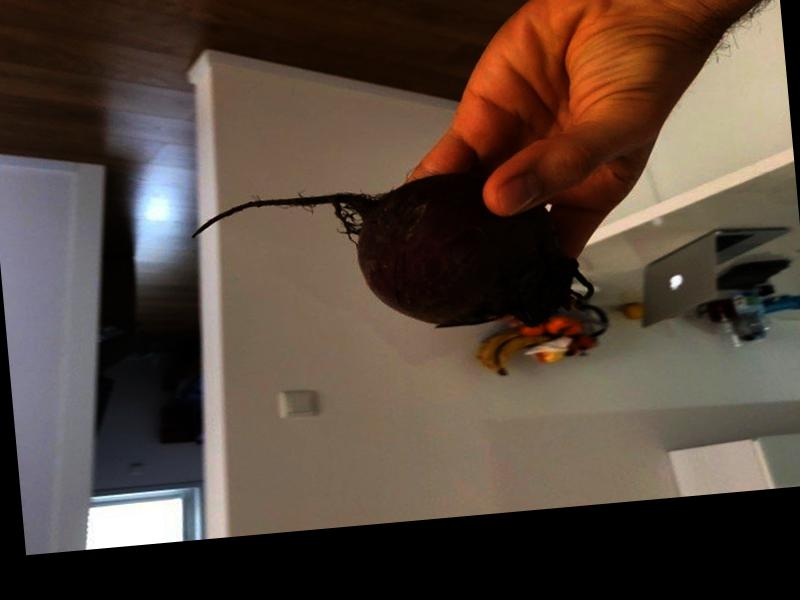Beet: (187, 163, 594, 353)
